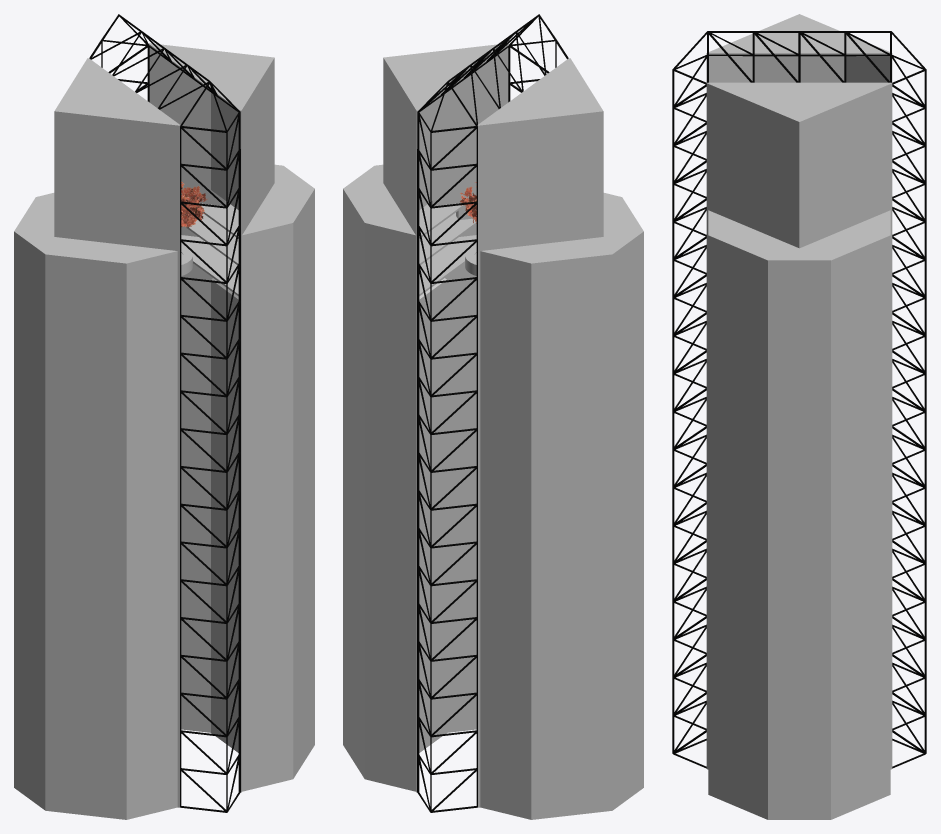
Rendered from Main_Level_Mesh 3.fbx.
The picture shows the model from 3 angles, left to right: view 1: azimuth 30°, elevation 25°; view 2: azimuth 150°, elevation 25°; view 3: azimuth 270°, elevation 25°; orthographic projection.
Parts seen in each view (by area): view 1: OutsideWindows_Mesh, Walls_Mesh, WindowTruss_Mesh, SideWindows_Mesh, CafeteriaFloor_Mesh, Floor2_Mesh, Tree_mesh, Floor3_Mesh; view 2: OutsideWindows_Mesh, Walls_Mesh, WindowTruss_Mesh, SideWindows_Mesh, CafeteriaFloor_Mesh, Floor2_Mesh, Floor3_Mesh; view 3: OutsideWindows_Mesh, Walls_Mesh, WindowTruss_Mesh, SideWindows_Mesh.
Part boxes in pixels (bbox=[...]): OutsideWindows_Mesh: bbox=[14, 164, 314, 819]; Walls_Mesh: bbox=[54, 43, 274, 807]; WindowTruss_Mesh: bbox=[89, 14, 240, 812]; SideWindows_Mesh: bbox=[211, 93, 238, 752]; CafeteriaFloor_Mesh: bbox=[181, 235, 238, 296]; Floor2_Mesh: bbox=[184, 220, 238, 264]; Tree_mesh: bbox=[181, 181, 208, 227]; Floor3_Mesh: bbox=[199, 203, 238, 238]; OutsideWindows_Mesh: bbox=[343, 164, 643, 819]; Walls_Mesh: bbox=[383, 43, 603, 807]; WindowTruss_Mesh: bbox=[417, 14, 568, 812]; SideWindows_Mesh: bbox=[419, 93, 446, 752]; CafeteriaFloor_Mesh: bbox=[419, 235, 476, 296]; Floor2_Mesh: bbox=[419, 218, 476, 264]; Floor3_Mesh: bbox=[419, 203, 464, 238]; OutsideWindows_Mesh: bbox=[708, 210, 890, 819]; Walls_Mesh: bbox=[706, 14, 892, 769]; WindowTruss_Mesh: bbox=[672, 31, 926, 768]; SideWindows_Mesh: bbox=[754, 56, 844, 82].
Bounding box in the file's own units: 21664 × 55294 × 17624.
